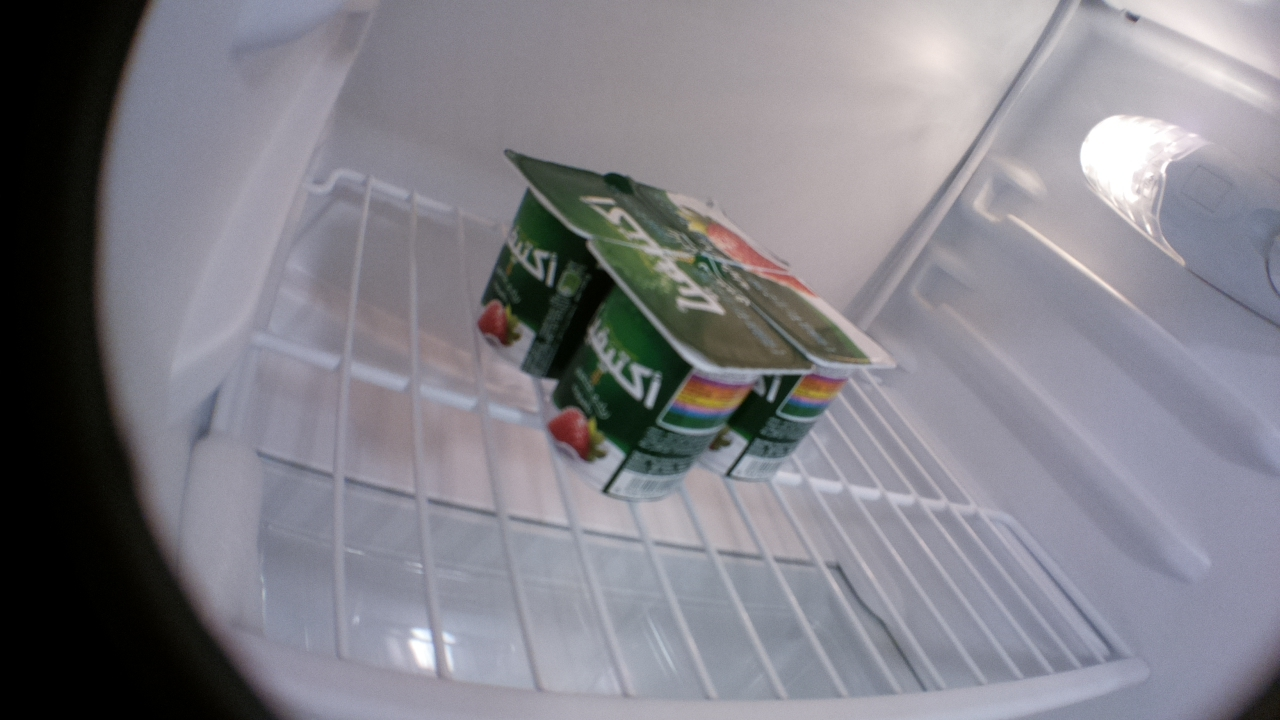yoghurt: (532, 238, 812, 504), (473, 147, 695, 378), (695, 269, 900, 481), (622, 176, 789, 272)
